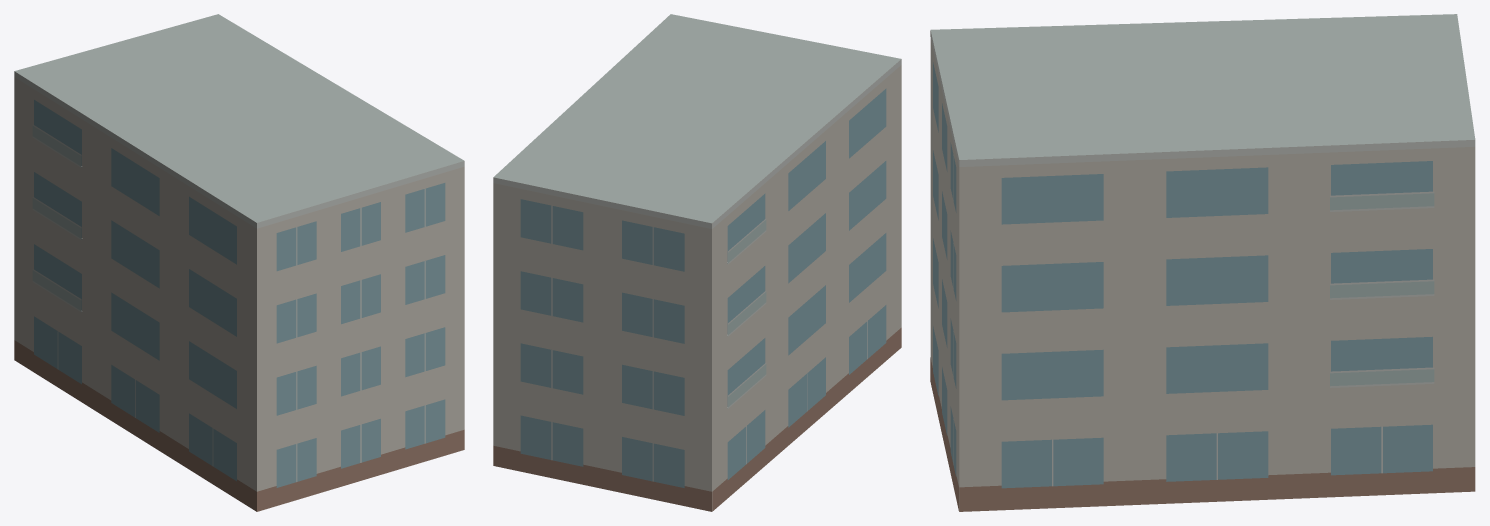
The model's file is survey-upis-32781215.glb.
3 views of the same model, side by side, from view 1: azimuth 30°, elevation 25°; view 2: azimuth 150°, elevation 25°; view 3: azimuth 270°, elevation 25° (orthographic). The views are drawn at different scales.
Visible parts, largest first — view 1: survey-upis-32781215.tmp; view 2: survey-upis-32781215.tmp; view 3: survey-upis-32781215.tmp.
Boxes of the visible parts, x1,y1,x2,y2 form: survey-upis-32781215.tmp: [14, 14, 464, 511]; survey-upis-32781215.tmp: [493, 14, 901, 511]; survey-upis-32781215.tmp: [930, 14, 1475, 511].
Size of the model in its own units: 10.97 by 12.3 by 17.28.
